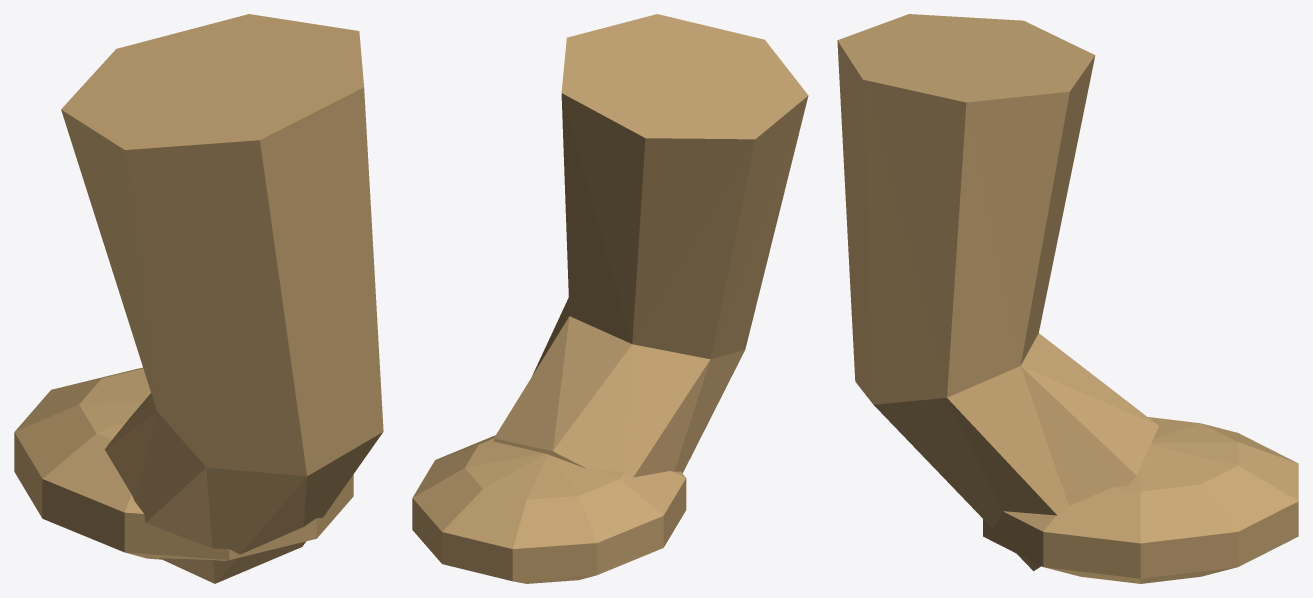
File: gorehulk_d_leg_1.obj
The picture shows the model from 3 angles, left to right: view 1: azimuth 30°, elevation 25°; view 2: azimuth 150°, elevation 25°; view 3: azimuth 270°, elevation 25°; orthographic projection. The views are drawn at different scales.
Visible parts, largest first — view 1: gorehulk_d_leg_1; view 2: gorehulk_d_leg_1; view 3: gorehulk_d_leg_1.
Part boxes in pixels (left/top/right/bottom): gorehulk_d_leg_1: left=14, top=14, right=383, bottom=583; gorehulk_d_leg_1: left=412, top=14, right=808, bottom=583; gorehulk_d_leg_1: left=837, top=14, right=1298, bottom=583.
Size of the model in its own units: 0.3497 by 0.5576 by 0.4759.
